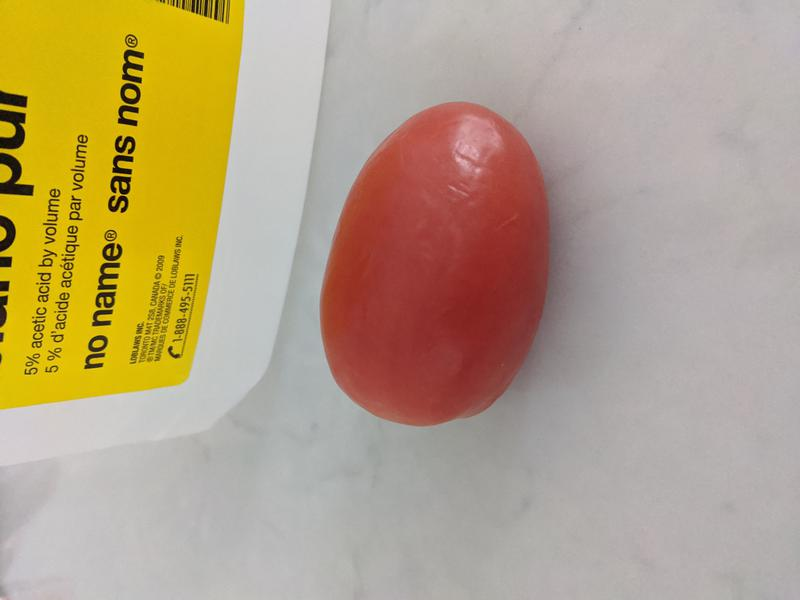tomato: (319, 102, 553, 428)
